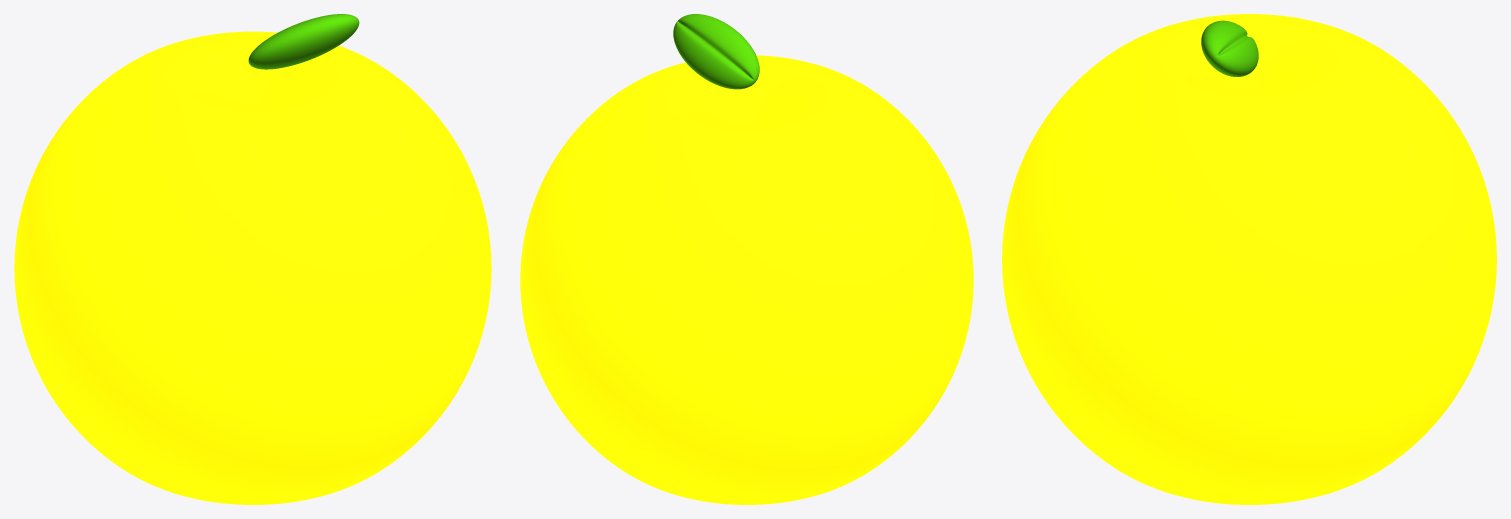
File: apple_yellow.fbx
3 renders of one model, left to right at view 1: azimuth 30°, elevation 25°; view 2: azimuth 150°, elevation 25°; view 3: azimuth 270°, elevation 25°, orthographic. The views are drawn at different scales.
Parts seen in each view (by area): view 1: 球.008, 球.009; view 2: 球.008, 球.009; view 3: 球.008, 球.009.
Boxes of the visible parts, left/top/right/bottom form: 球.008: left=14, top=31, right=491, bottom=504; 球.009: left=248, top=14, right=359, bottom=69; 球.008: left=520, top=55, right=973, bottom=504; 球.009: left=673, top=14, right=759, bottom=89; 球.008: left=1002, top=14, right=1496, bottom=504; 球.009: left=1201, top=20, right=1258, bottom=76.
Size of the model in its own units: 31.12 by 31.82 by 31.12.
